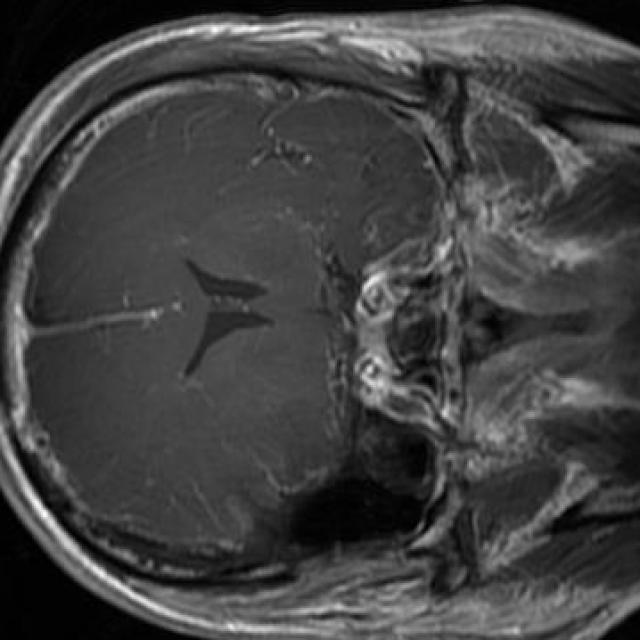glioma: (89, 403, 433, 588)
